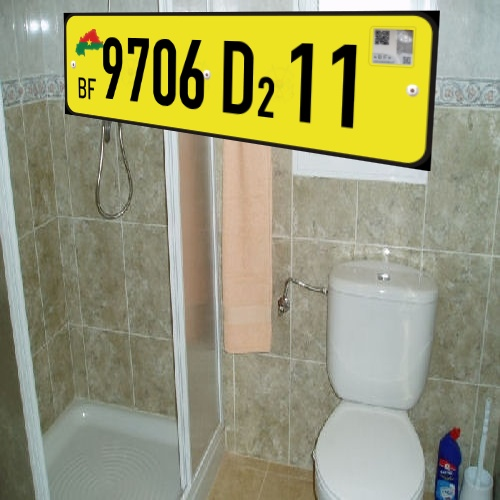plate: (51, 3, 447, 182)
